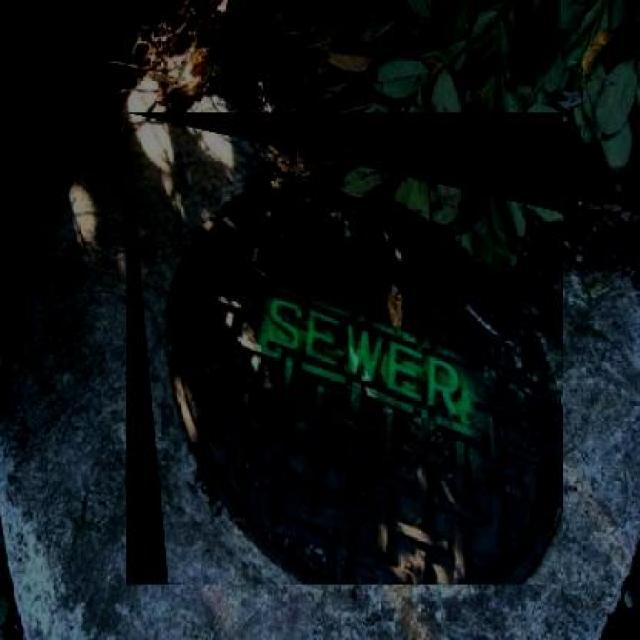Manhole: (126, 112, 563, 585)
